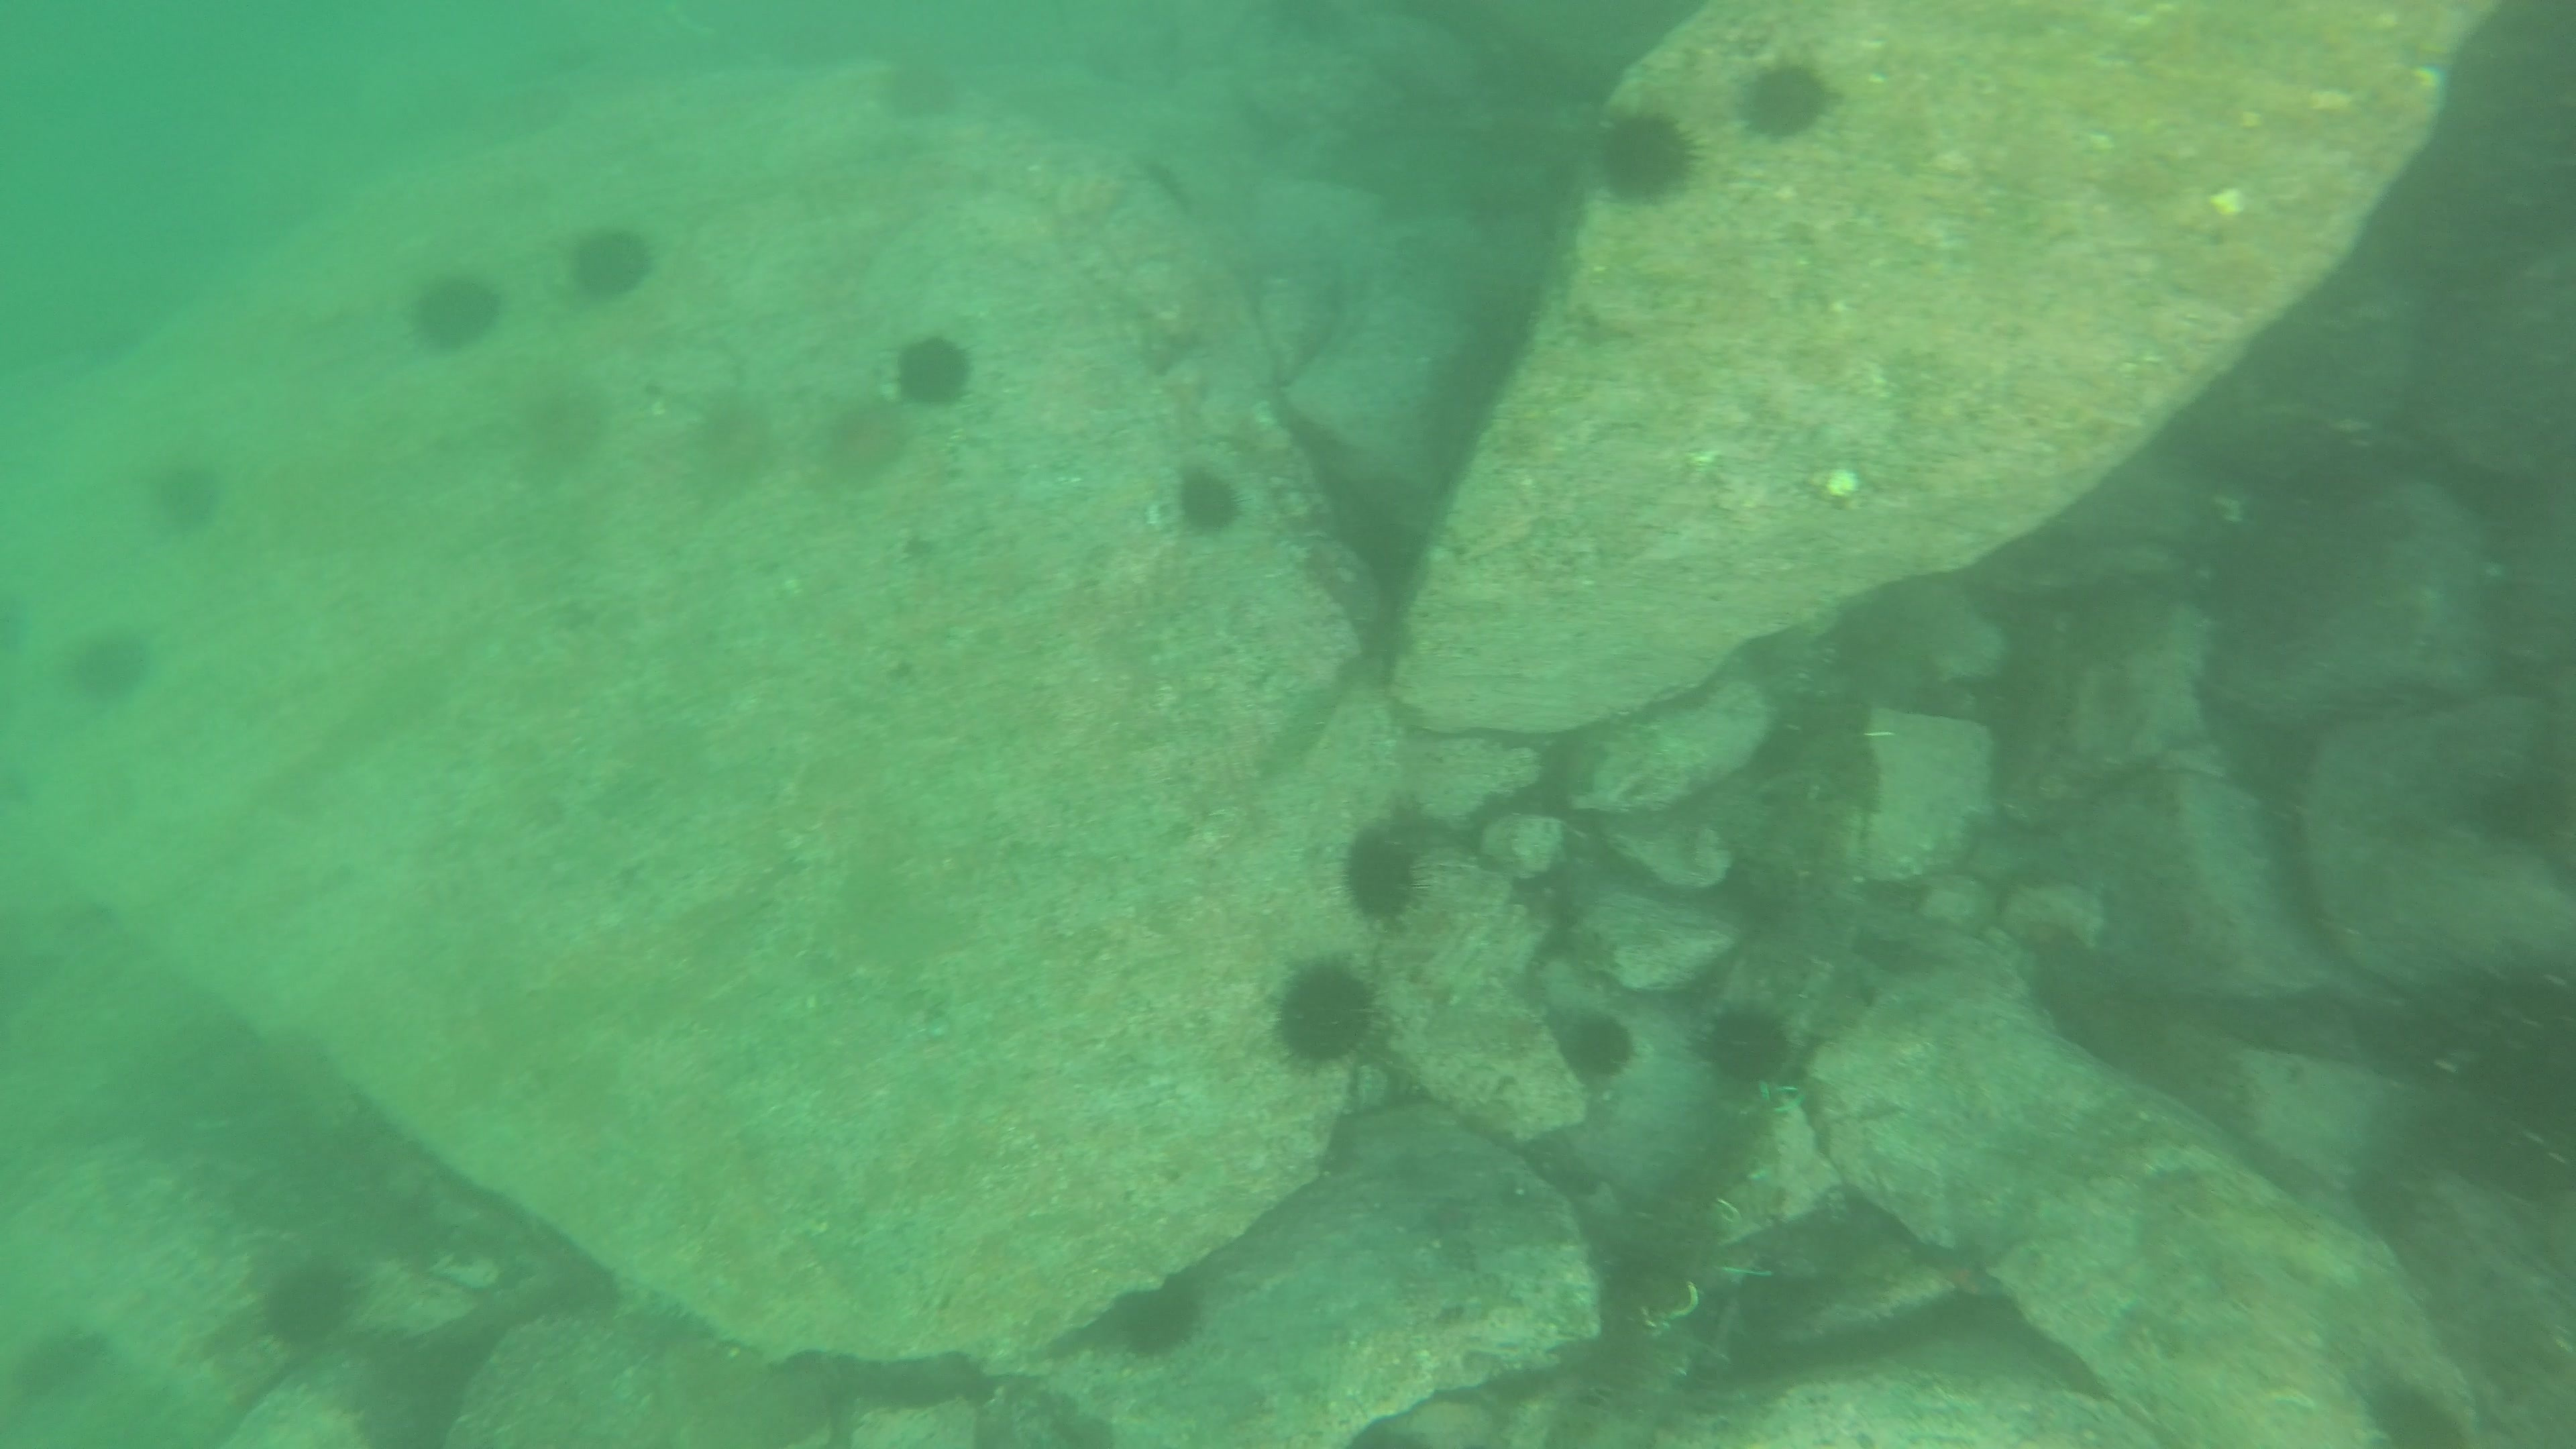echinus: (1267, 952, 1385, 1072), (1591, 101, 1704, 209), (253, 1249, 364, 1357), (510, 375, 616, 481), (1693, 996, 1801, 1097), (1334, 817, 1433, 927), (1730, 51, 1842, 149), (403, 262, 508, 359), (686, 386, 780, 492), (1102, 1272, 1210, 1362), (816, 396, 913, 492), (58, 619, 159, 711), (561, 216, 660, 308), (2357, 1369, 2470, 1449), (1546, 1001, 1642, 1092), (140, 446, 232, 538), (885, 326, 980, 414), (869, 48, 970, 129), (1162, 458, 1249, 541)
